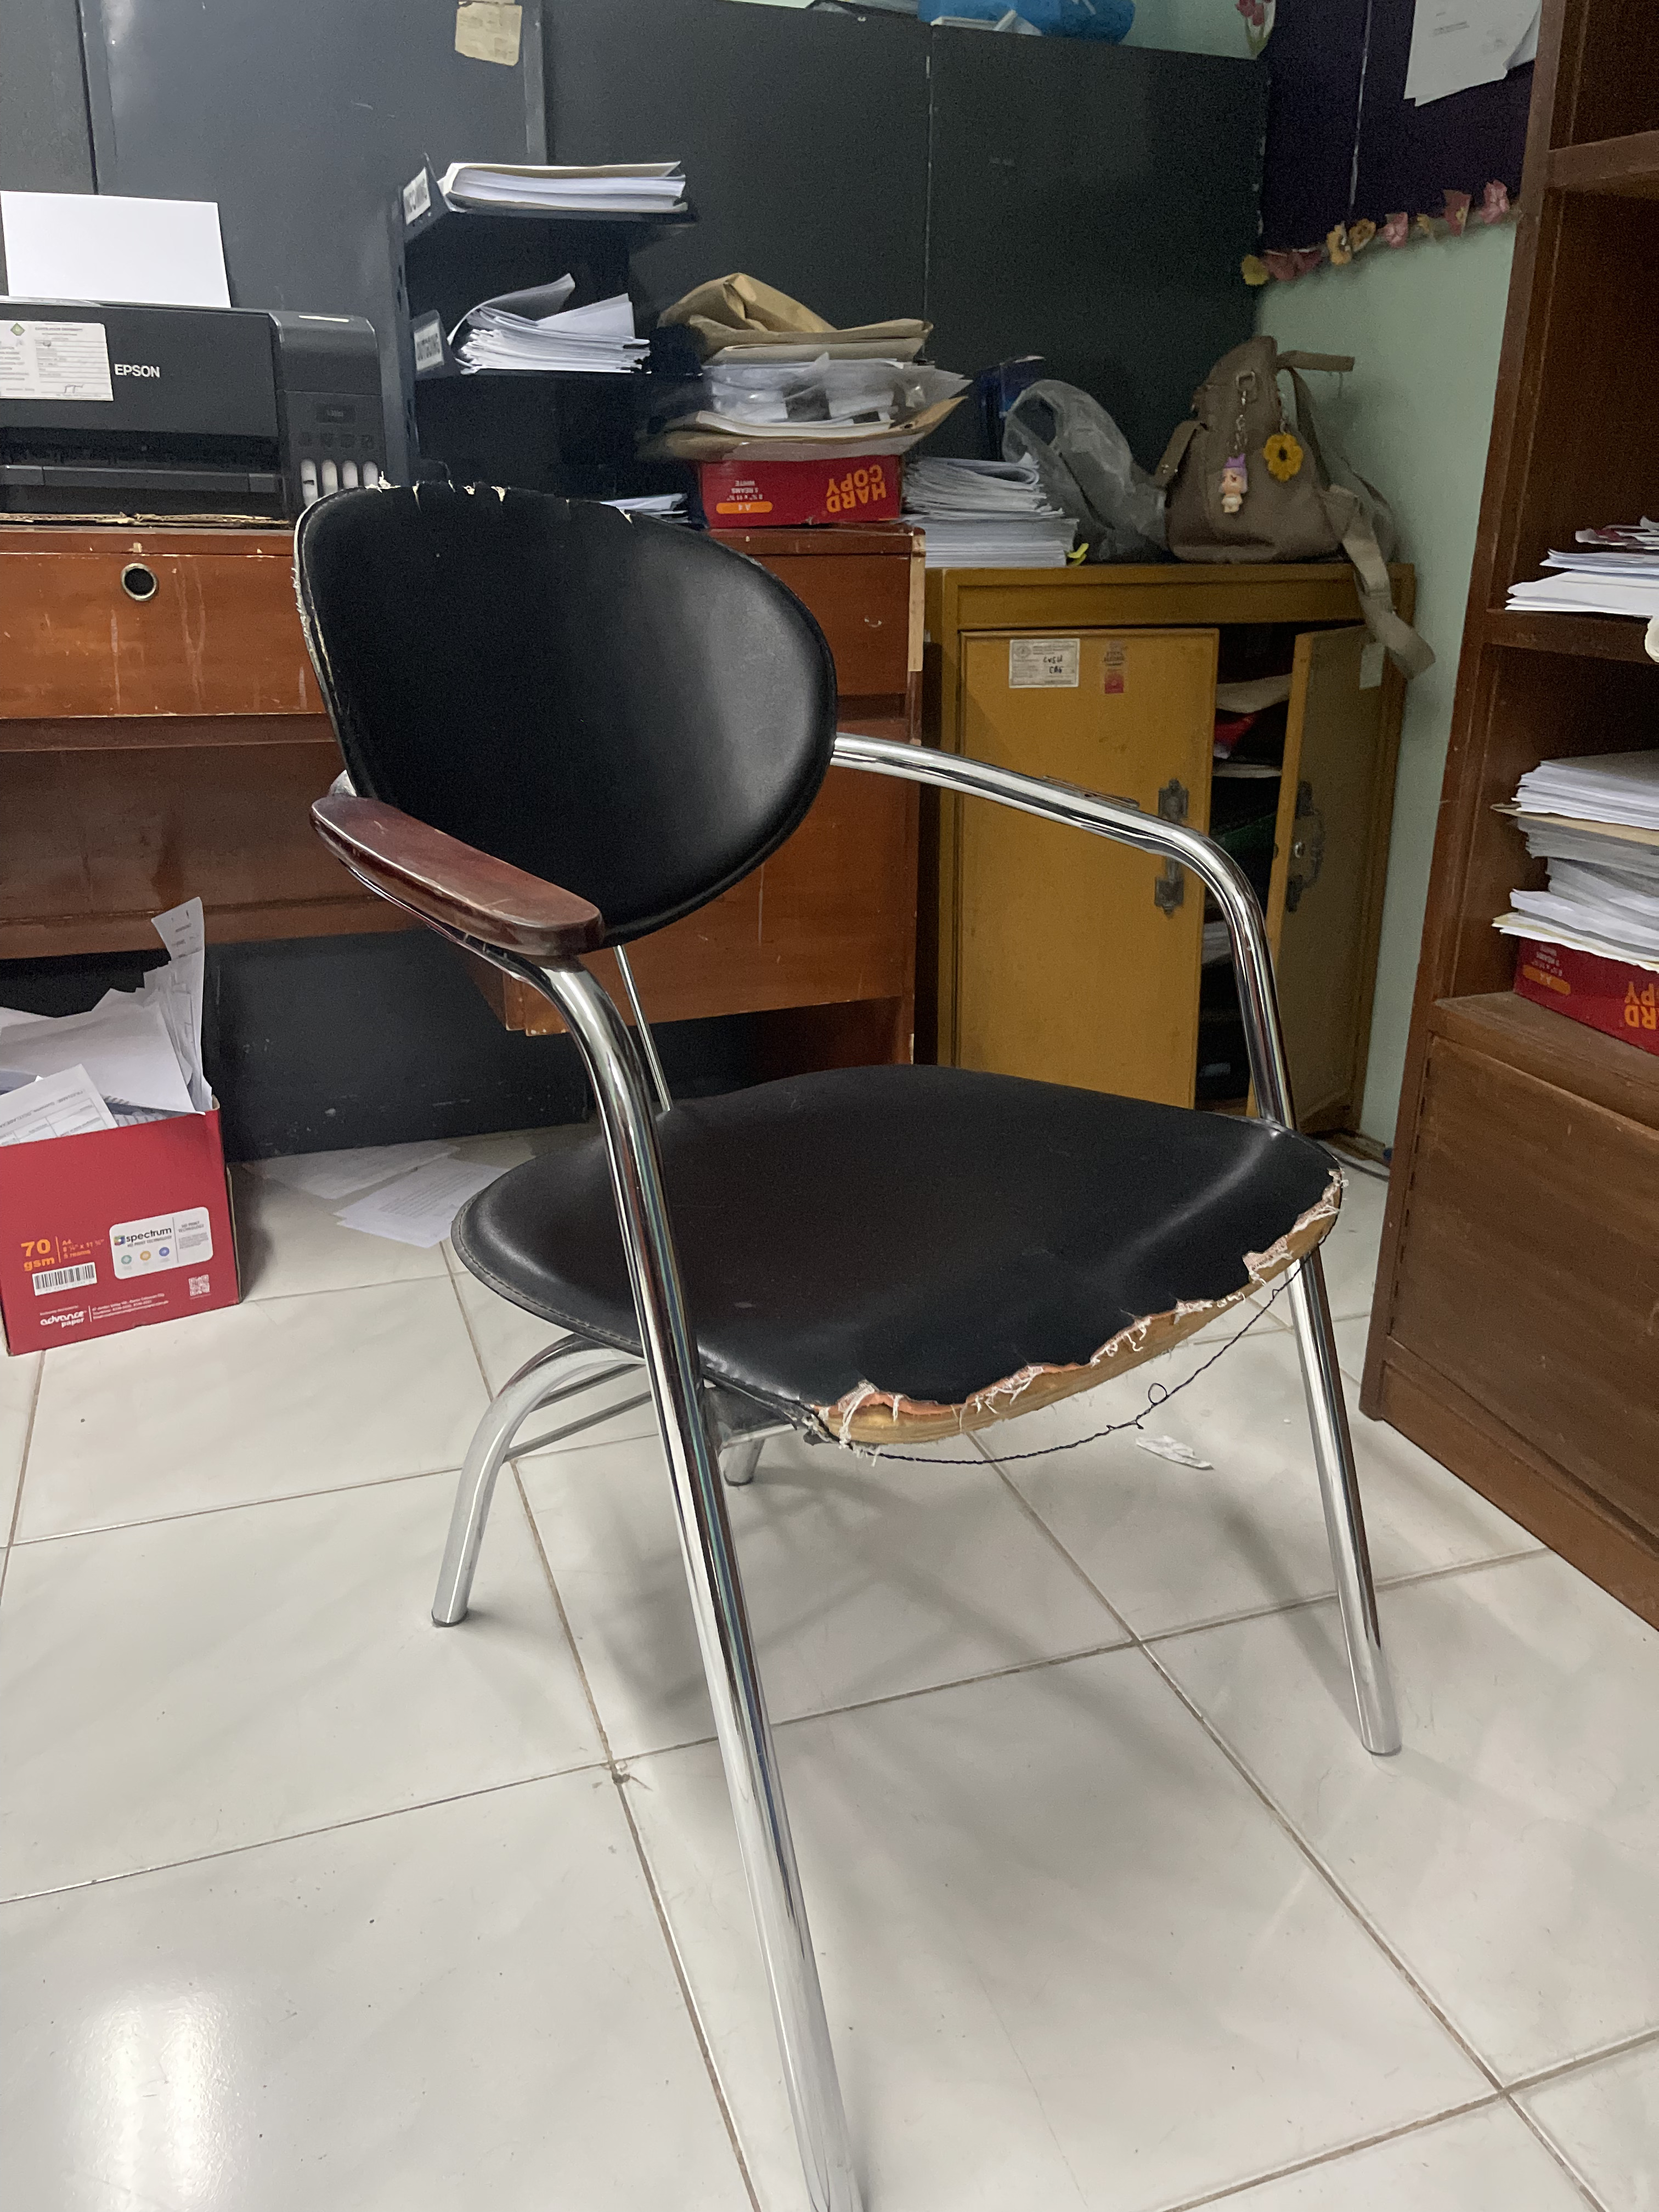chair1: (288, 481, 1412, 2212)
